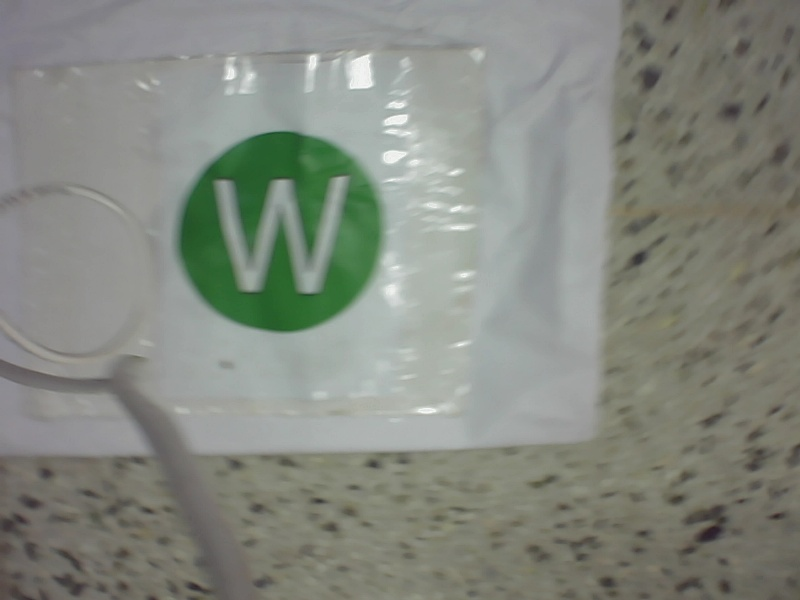areaB: (166, 125, 394, 334)
